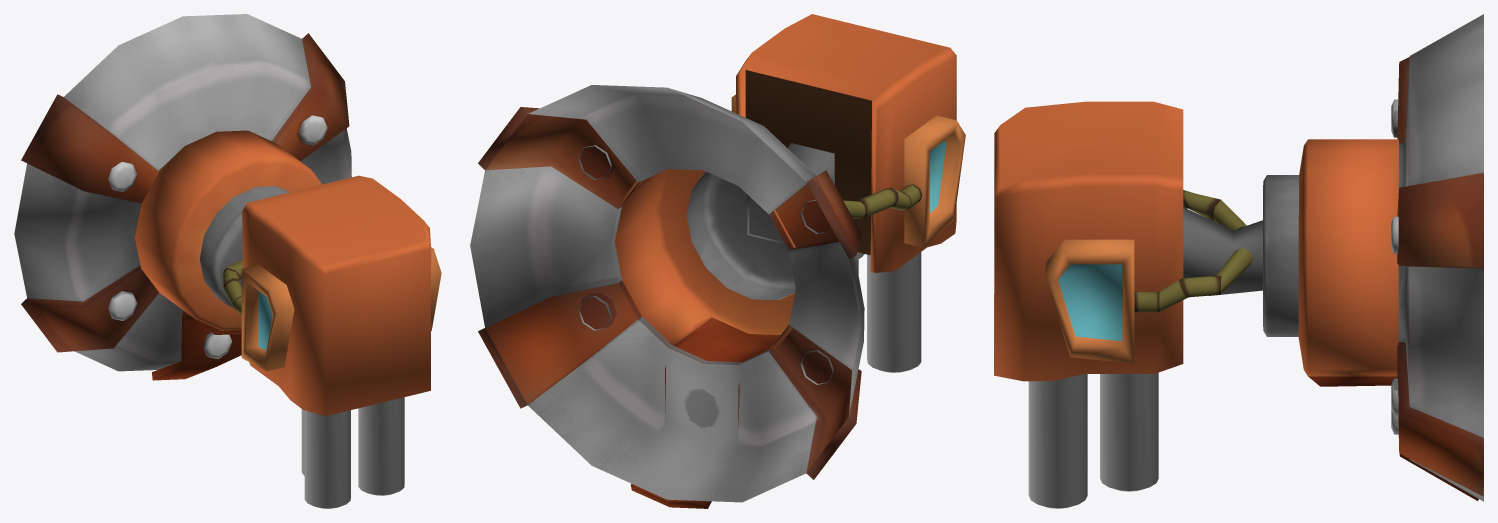
File: MachineY.fbx
3 renders of one model, left to right at view 1: azimuth 30°, elevation 25°; view 2: azimuth 150°, elevation 25°; view 3: azimuth 270°, elevation 25°, orthographic. The views are drawn at different scales.
Parts seen in each view (by area): view 1: MechGunY; view 2: MechGunY; view 3: MechGunY.
Boxes of the visible parts, x1,y1,x2,y2 form: MechGunY: (14, 14, 441, 508); MechGunY: (470, 14, 965, 508); MechGunY: (994, 14, 1483, 508).
Bounding box in the file's own units: 4.19 × 4.29 × 4.21.
